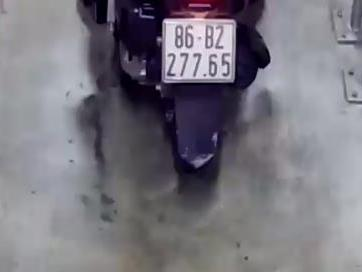num_plate: (162, 17, 235, 84)
